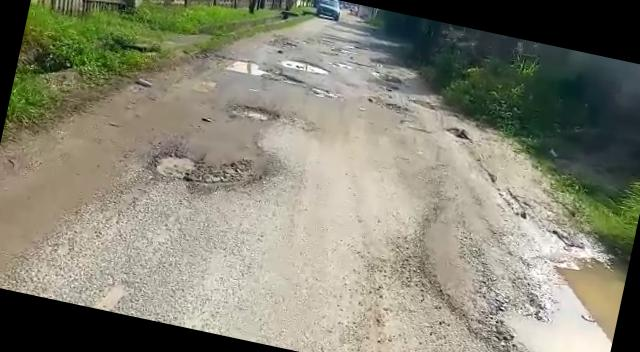pothole: (483, 236, 628, 352), (138, 138, 255, 197), (210, 52, 276, 80), (226, 100, 281, 126), (280, 56, 330, 76)
